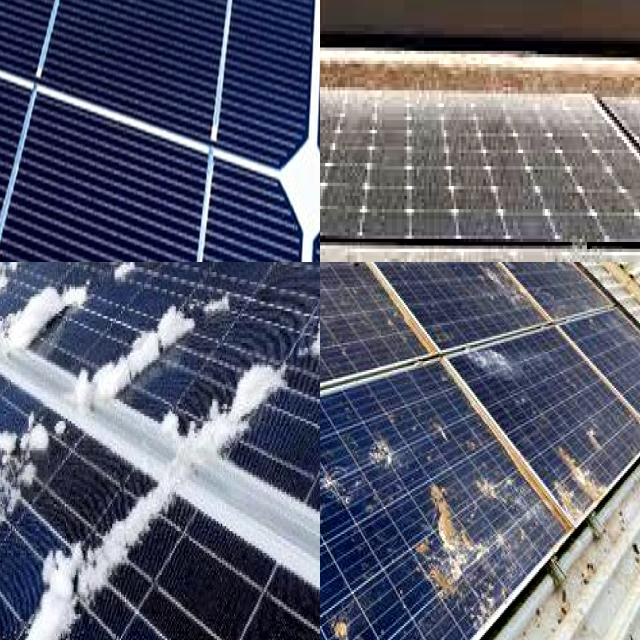bird: (420, 479, 463, 605), (463, 262, 543, 322), (552, 420, 596, 520), (454, 338, 534, 393), (320, 439, 360, 541), (474, 454, 544, 509), (320, 559, 358, 640), (320, 327, 346, 400), (320, 347, 350, 409), (370, 419, 401, 472), (327, 601, 368, 640), (320, 262, 352, 309), (320, 282, 350, 323), (320, 262, 351, 299), (382, 262, 427, 283), (320, 262, 343, 287), (320, 262, 340, 284)
crack: (0, 0, 320, 262), (0, 2, 320, 262)
dust: (390, 124, 526, 224), (552, 162, 640, 240), (320, 97, 355, 229), (320, 107, 356, 226), (540, 92, 598, 144), (320, 78, 355, 160), (320, 245, 427, 262), (435, 251, 577, 262)
panel: (0, 392, 107, 640), (111, 262, 225, 412), (196, 341, 290, 474), (0, 262, 90, 375), (84, 486, 187, 576), (0, 292, 75, 392), (0, 379, 40, 546), (53, 262, 141, 318), (0, 262, 53, 337), (111, 262, 177, 304), (257, 599, 320, 640), (302, 280, 320, 399)
